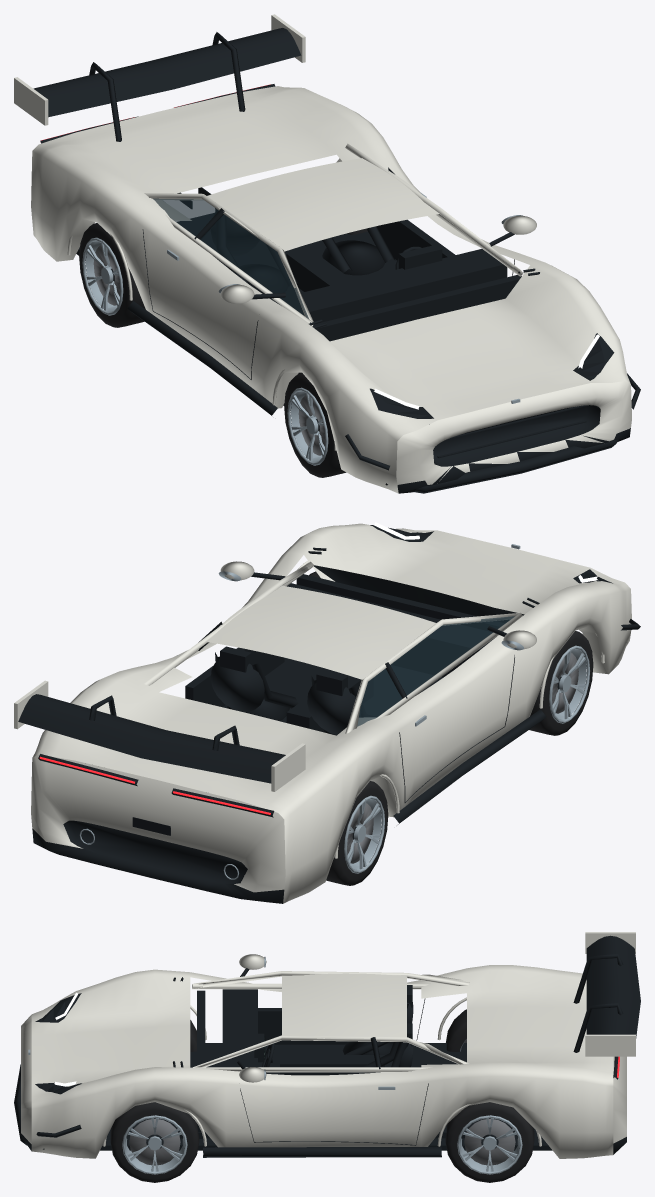
Rendered from gtx-lod1.glb.
The picture shows the model from 3 angles, top to bottom: view 1: azimuth 30°, elevation 25°; view 2: azimuth 150°, elevation 25°; view 3: azimuth 270°, elevation 25°; orthographic projection. The views are drawn at different scales.
Visible parts, largest first — view 1: sculpted-coachwork_merged, carbon-rear-valance_merged, panoramic-windscreen_merged, rim-barrel_merged (×2), profiled-tire (×2), ventilated-brake-rotor (×2); view 2: sculpted-coachwork_merged, carbon-rear-valance_merged, panoramic-windscreen_merged, rim-barrel_merged (×2), profiled-tire (×2), ventilated-brake-rotor (×2), rear-light-guide_merged, flush-door-handle_merged; view 3: sculpted-coachwork_merged, carbon-rear-valance_merged, profiled-tire (×3), rim-barrel_merged (×2), ventilated-brake-rotor (×2).
Part boxes in pixels (box(x1,y1,x2,y2)): sculpted-coachwork_merged: box(14, 14, 631, 493); carbon-rear-valance_merged: box(33, 28, 640, 493); panoramic-windscreen_merged: box(153, 198, 309, 319); rim-barrel_merged (×2): box(82, 237, 328, 465); profiled-tire (×2): box(79, 223, 346, 477); ventilated-brake-rotor (×2): box(93, 245, 325, 455); sculpted-coachwork_merged: box(14, 523, 631, 903); carbon-rear-valance_merged: box(18, 525, 640, 903); panoramic-windscreen_merged: box(307, 567, 514, 726); rim-barrel_merged (×2): box(344, 645, 589, 873); profiled-tire (×2): box(326, 631, 593, 885); ventilated-brake-rotor (×2): box(347, 653, 578, 863); rear-light-guide_merged: box(39, 756, 270, 814); flush-door-handle_merged: box(79, 544, 523, 879); sculpted-coachwork_merged: box(21, 932, 635, 1158); carbon-rear-valance_merged: box(14, 935, 640, 1157); profiled-tire (×3): box(110, 1009, 534, 1182); rim-barrel_merged (×2): box(122, 1115, 522, 1174); ventilated-brake-rotor (×2): box(129, 1118, 515, 1165).
Bounding box in the file's own units: 2.33 × 1.35 × 4.96.
Materials: 9 (1 with a texture image).
